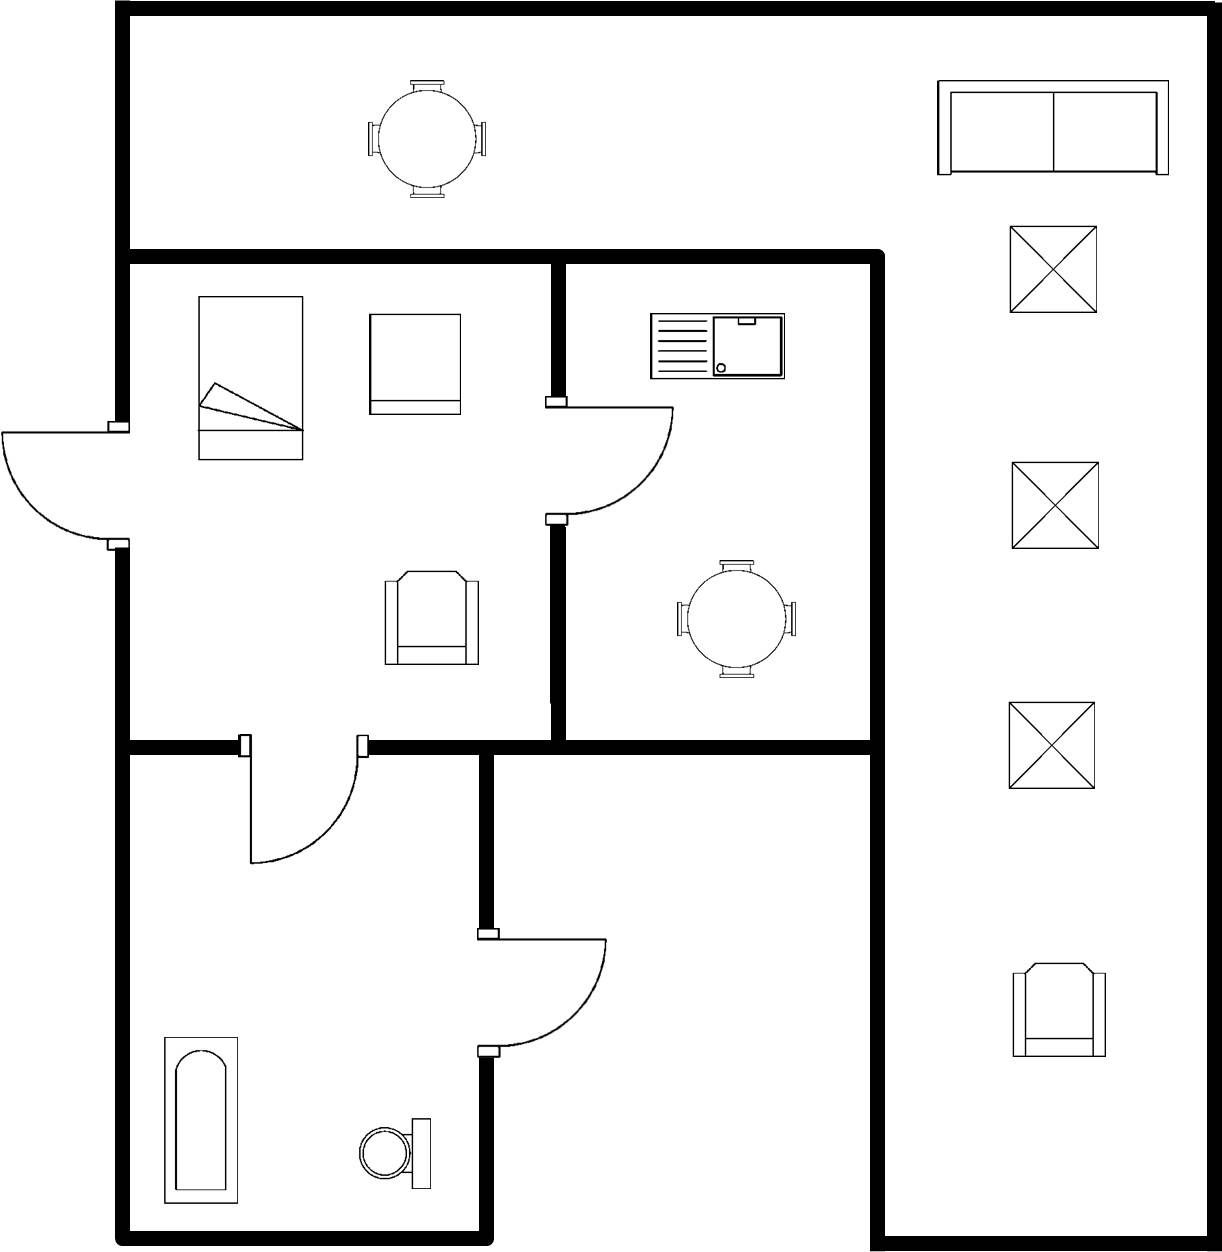armchair: (1003, 945, 1116, 1070), (378, 561, 487, 675)
bed: (187, 287, 312, 470)
coffee_table: (995, 691, 1110, 801), (1003, 452, 1111, 558), (999, 218, 1108, 322)
large_sink: (351, 1109, 439, 1196)
large_sofa: (928, 69, 1178, 189)
round_table: (358, 73, 498, 208), (665, 550, 801, 686)
sink: (642, 305, 793, 386)
small_sofa: (361, 305, 470, 426)
tub: (153, 1029, 249, 1211)
